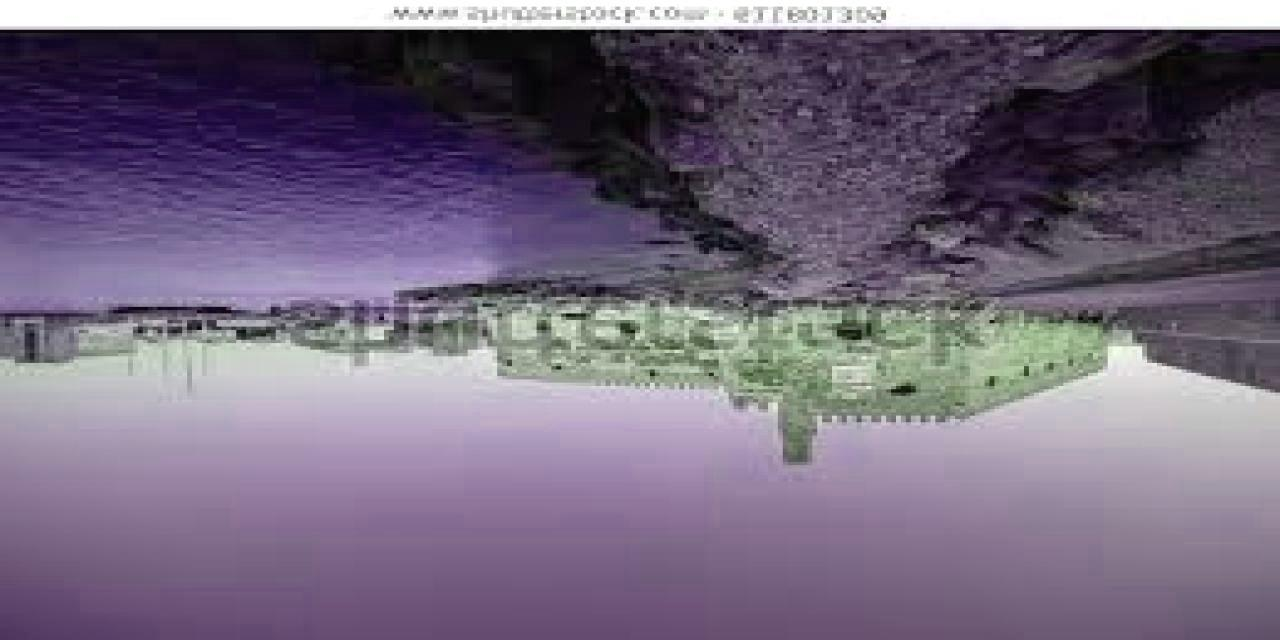Kules: (489, 314, 1117, 473)
